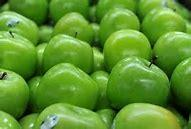apple: (35, 61, 101, 112), (111, 66, 168, 104), (101, 32, 153, 67), (0, 32, 39, 71), (110, 102, 166, 129), (42, 35, 86, 66)
